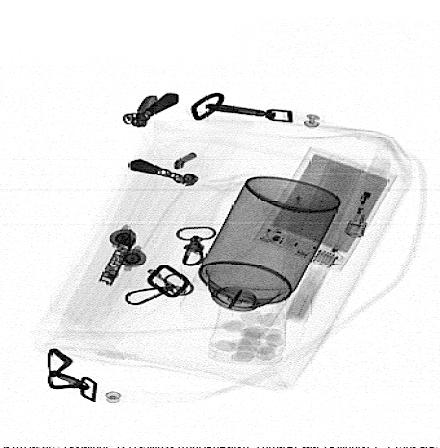Lighter: (344, 187, 379, 239)
Powerbank: (251, 147, 398, 273)
Sprayer: (179, 176, 342, 338)
